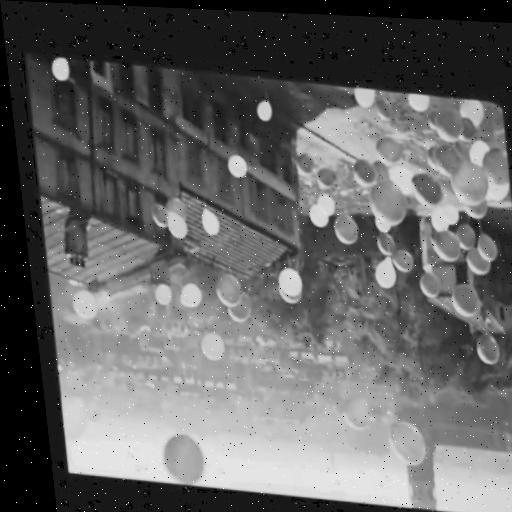balloon: (161, 429, 208, 485), (387, 414, 428, 462), (368, 175, 408, 223), (448, 154, 488, 200), (60, 393, 89, 438), (340, 390, 371, 428), (409, 167, 442, 201), (431, 101, 461, 137), (483, 144, 511, 182), (450, 277, 477, 312), (71, 287, 99, 319), (215, 270, 241, 304), (276, 264, 302, 298), (199, 329, 226, 360), (371, 251, 395, 285), (464, 241, 493, 269), (435, 140, 460, 171), (333, 208, 357, 239), (457, 93, 484, 119), (435, 226, 459, 254), (476, 327, 498, 357), (373, 134, 399, 159), (228, 292, 252, 319), (390, 163, 413, 190), (179, 279, 200, 307), (470, 133, 492, 159), (375, 228, 398, 252), (420, 266, 441, 292), (165, 210, 185, 237), (352, 153, 372, 180), (374, 92, 394, 119), (457, 111, 475, 141), (390, 242, 410, 267), (458, 215, 477, 241), (481, 178, 506, 197), (405, 90, 429, 109), (423, 140, 441, 165), (479, 225, 495, 253), (50, 55, 68, 79), (353, 83, 373, 104), (153, 282, 172, 304), (198, 206, 217, 228), (315, 160, 334, 182), (163, 194, 184, 213), (148, 200, 166, 222), (227, 152, 245, 174), (255, 94, 271, 118), (306, 200, 325, 220), (292, 151, 312, 170), (430, 203, 447, 225), (316, 190, 334, 210), (461, 197, 486, 210), (424, 103, 435, 124), (372, 215, 389, 228), (444, 201, 457, 217), (511, 329, 512, 367)
